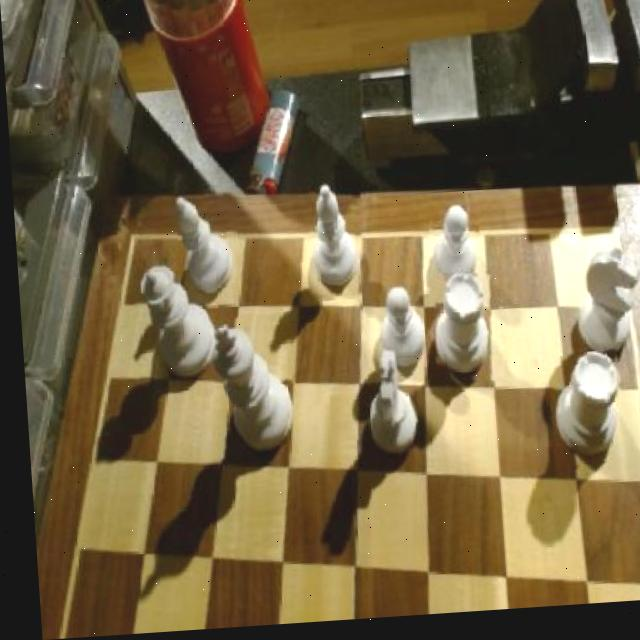black-rook: (172, 190, 239, 299), (303, 183, 363, 300)
white-bishop: (205, 318, 294, 463)
white-king: (572, 260, 640, 376), (363, 353, 417, 466)
white-knight: (423, 200, 480, 302), (375, 291, 422, 377)
white-pawn: (129, 257, 218, 384)
white-queen: (548, 358, 621, 478), (427, 278, 498, 390)
